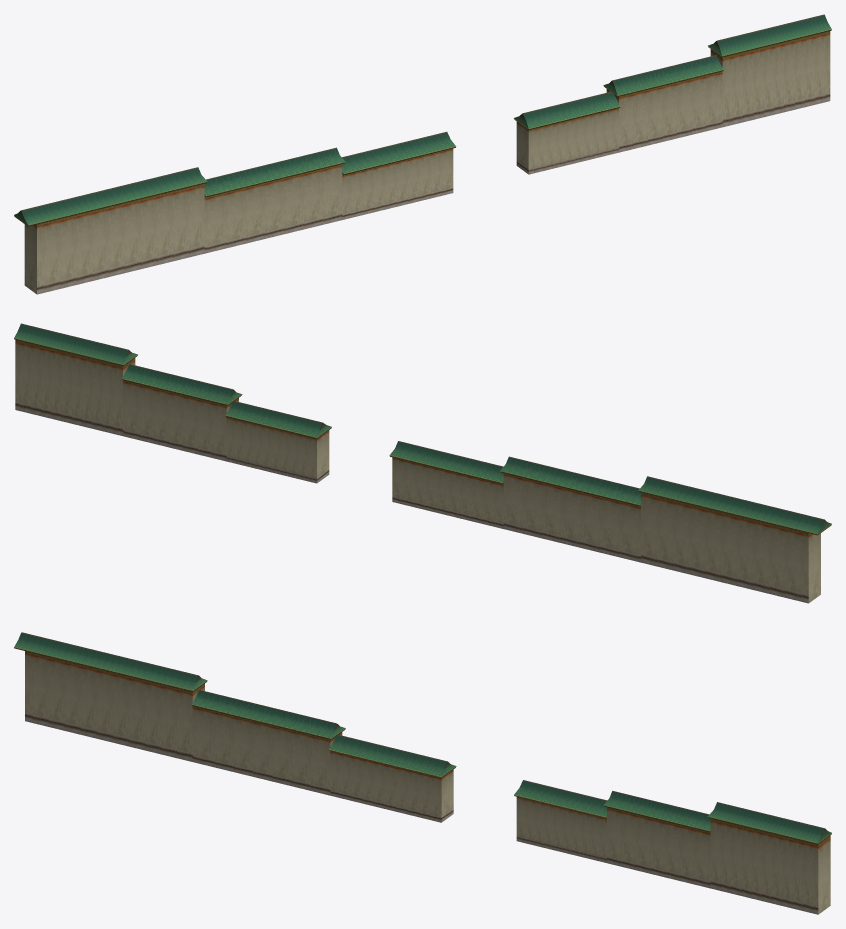
The model's file is cj_monstad_dam01.glb.
3 views of the same model, one above another, from view 1: azimuth 30°, elevation 25°; view 2: azimuth 150°, elevation 25°; view 3: azimuth 330°, elevation 25° (orthographic).
Visible parts, largest first — view 1: CJ_monstad_dam01_02, CJ_monstad_dam01_01; view 2: CJ_monstad_dam01_02, CJ_monstad_dam01_01; view 3: CJ_monstad_dam01_02, CJ_monstad_dam01_01.
Part boxes in pixels (x1,y1,x2,y2): CJ_monstad_dam01_02: [24, 31, 830, 294]; CJ_monstad_dam01_01: [14, 14, 831, 226]; CJ_monstad_dam01_02: [15, 339, 820, 603]; CJ_monstad_dam01_01: [14, 323, 831, 535]; CJ_monstad_dam01_02: [25, 651, 830, 914]; CJ_monstad_dam01_01: [14, 632, 831, 844].
Size of the model in its own units: 143 by 13.95 by 4.66.
2 materials, 2 textured.
